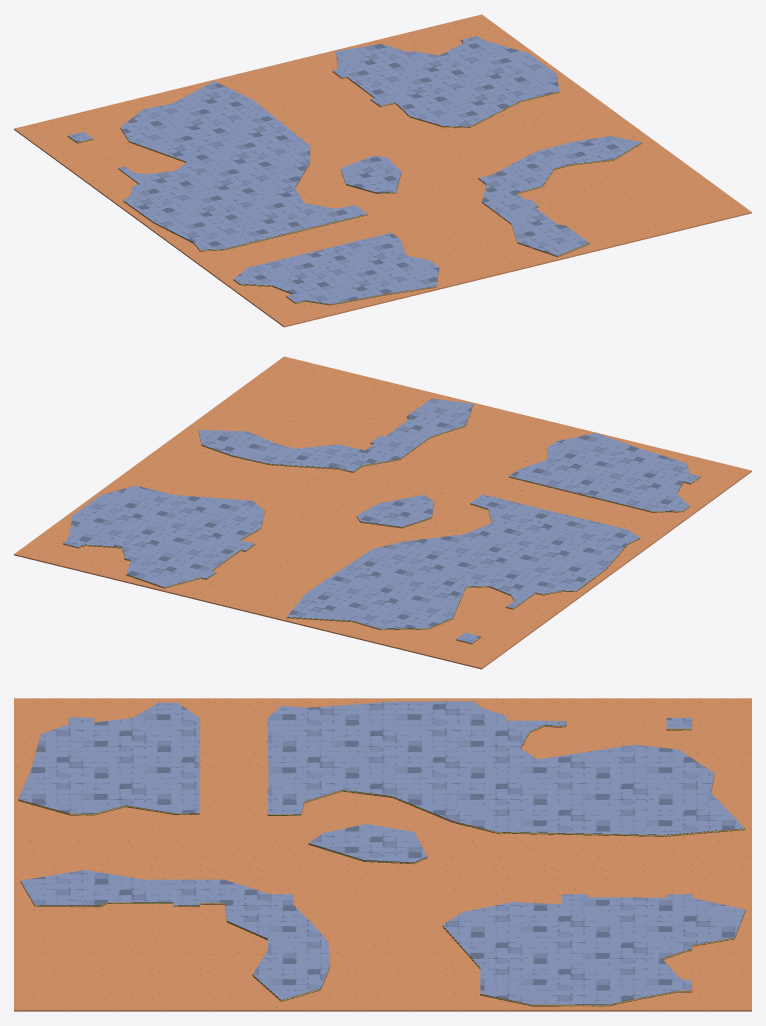
Rendered from Floor_Tiles_Large.glb.
3 renders of one model, top to bottom at view 1: azimuth 30°, elevation 25°; view 2: azimuth 150°, elevation 25°; view 3: azimuth 270°, elevation 25°, orthographic. The views are drawn at different scales.
Parts seen in each view (by area): view 1: Floor_Tiles_Large; view 2: Floor_Tiles_Large; view 3: Floor_Tiles_Large.
Boxes of the visible parts, left/top/right/bottom form: Floor_Tiles_Large: left=14, top=14, right=751, bottom=327; Floor_Tiles_Large: left=14, top=356, right=751, bottom=669; Floor_Tiles_Large: left=14, top=698, right=751, bottom=1011.
Bounding box in the file's own units: 31.68 × 0.1585 × 31.68.
Materials: 4 (4 with a texture image).
